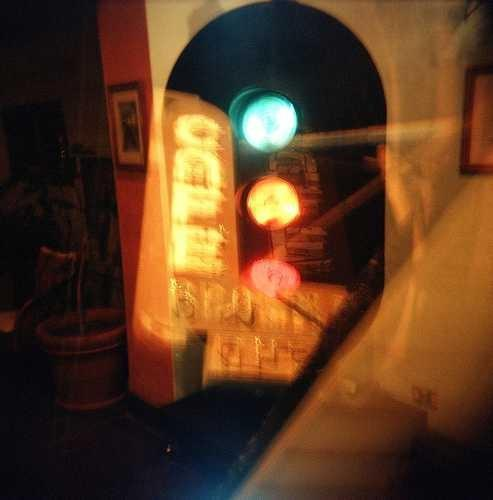5: (243, 250, 303, 306)
9: (234, 170, 304, 237)
red traffic light: (223, 80, 304, 166)
